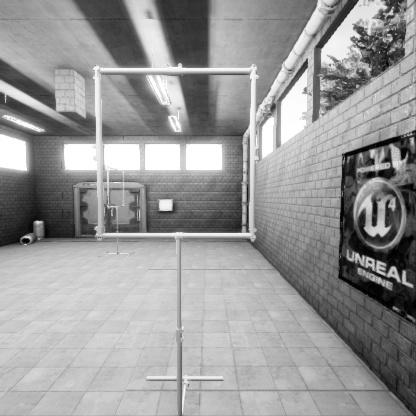gate: (95, 183, 272, 358), (107, 209, 124, 251)
